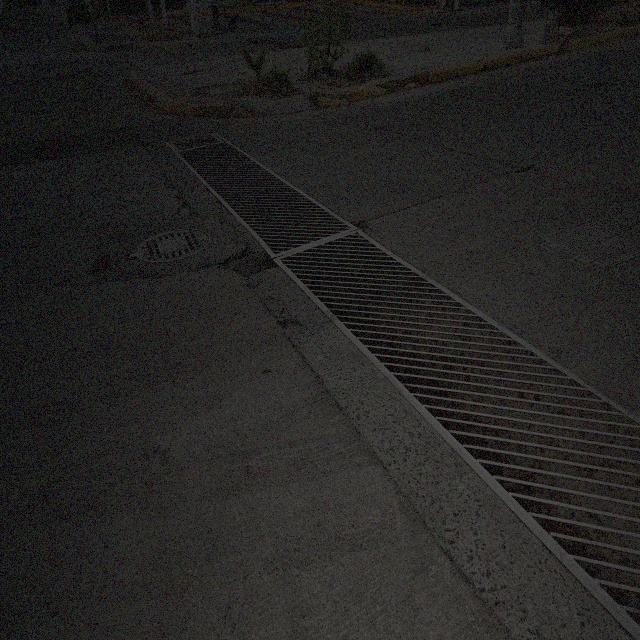pothole: (89, 255, 107, 277), (512, 160, 536, 175), (283, 317, 301, 331), (261, 260, 277, 274)
